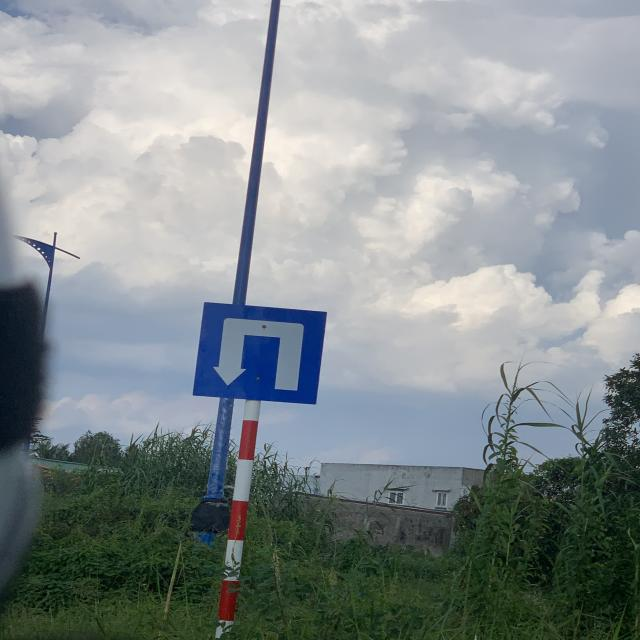Den_Giao_Thong: (192, 302, 328, 404)
